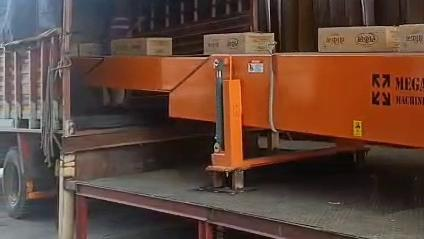box: (318, 26, 399, 52), (203, 33, 275, 54), (112, 38, 171, 55), (399, 24, 424, 51)
